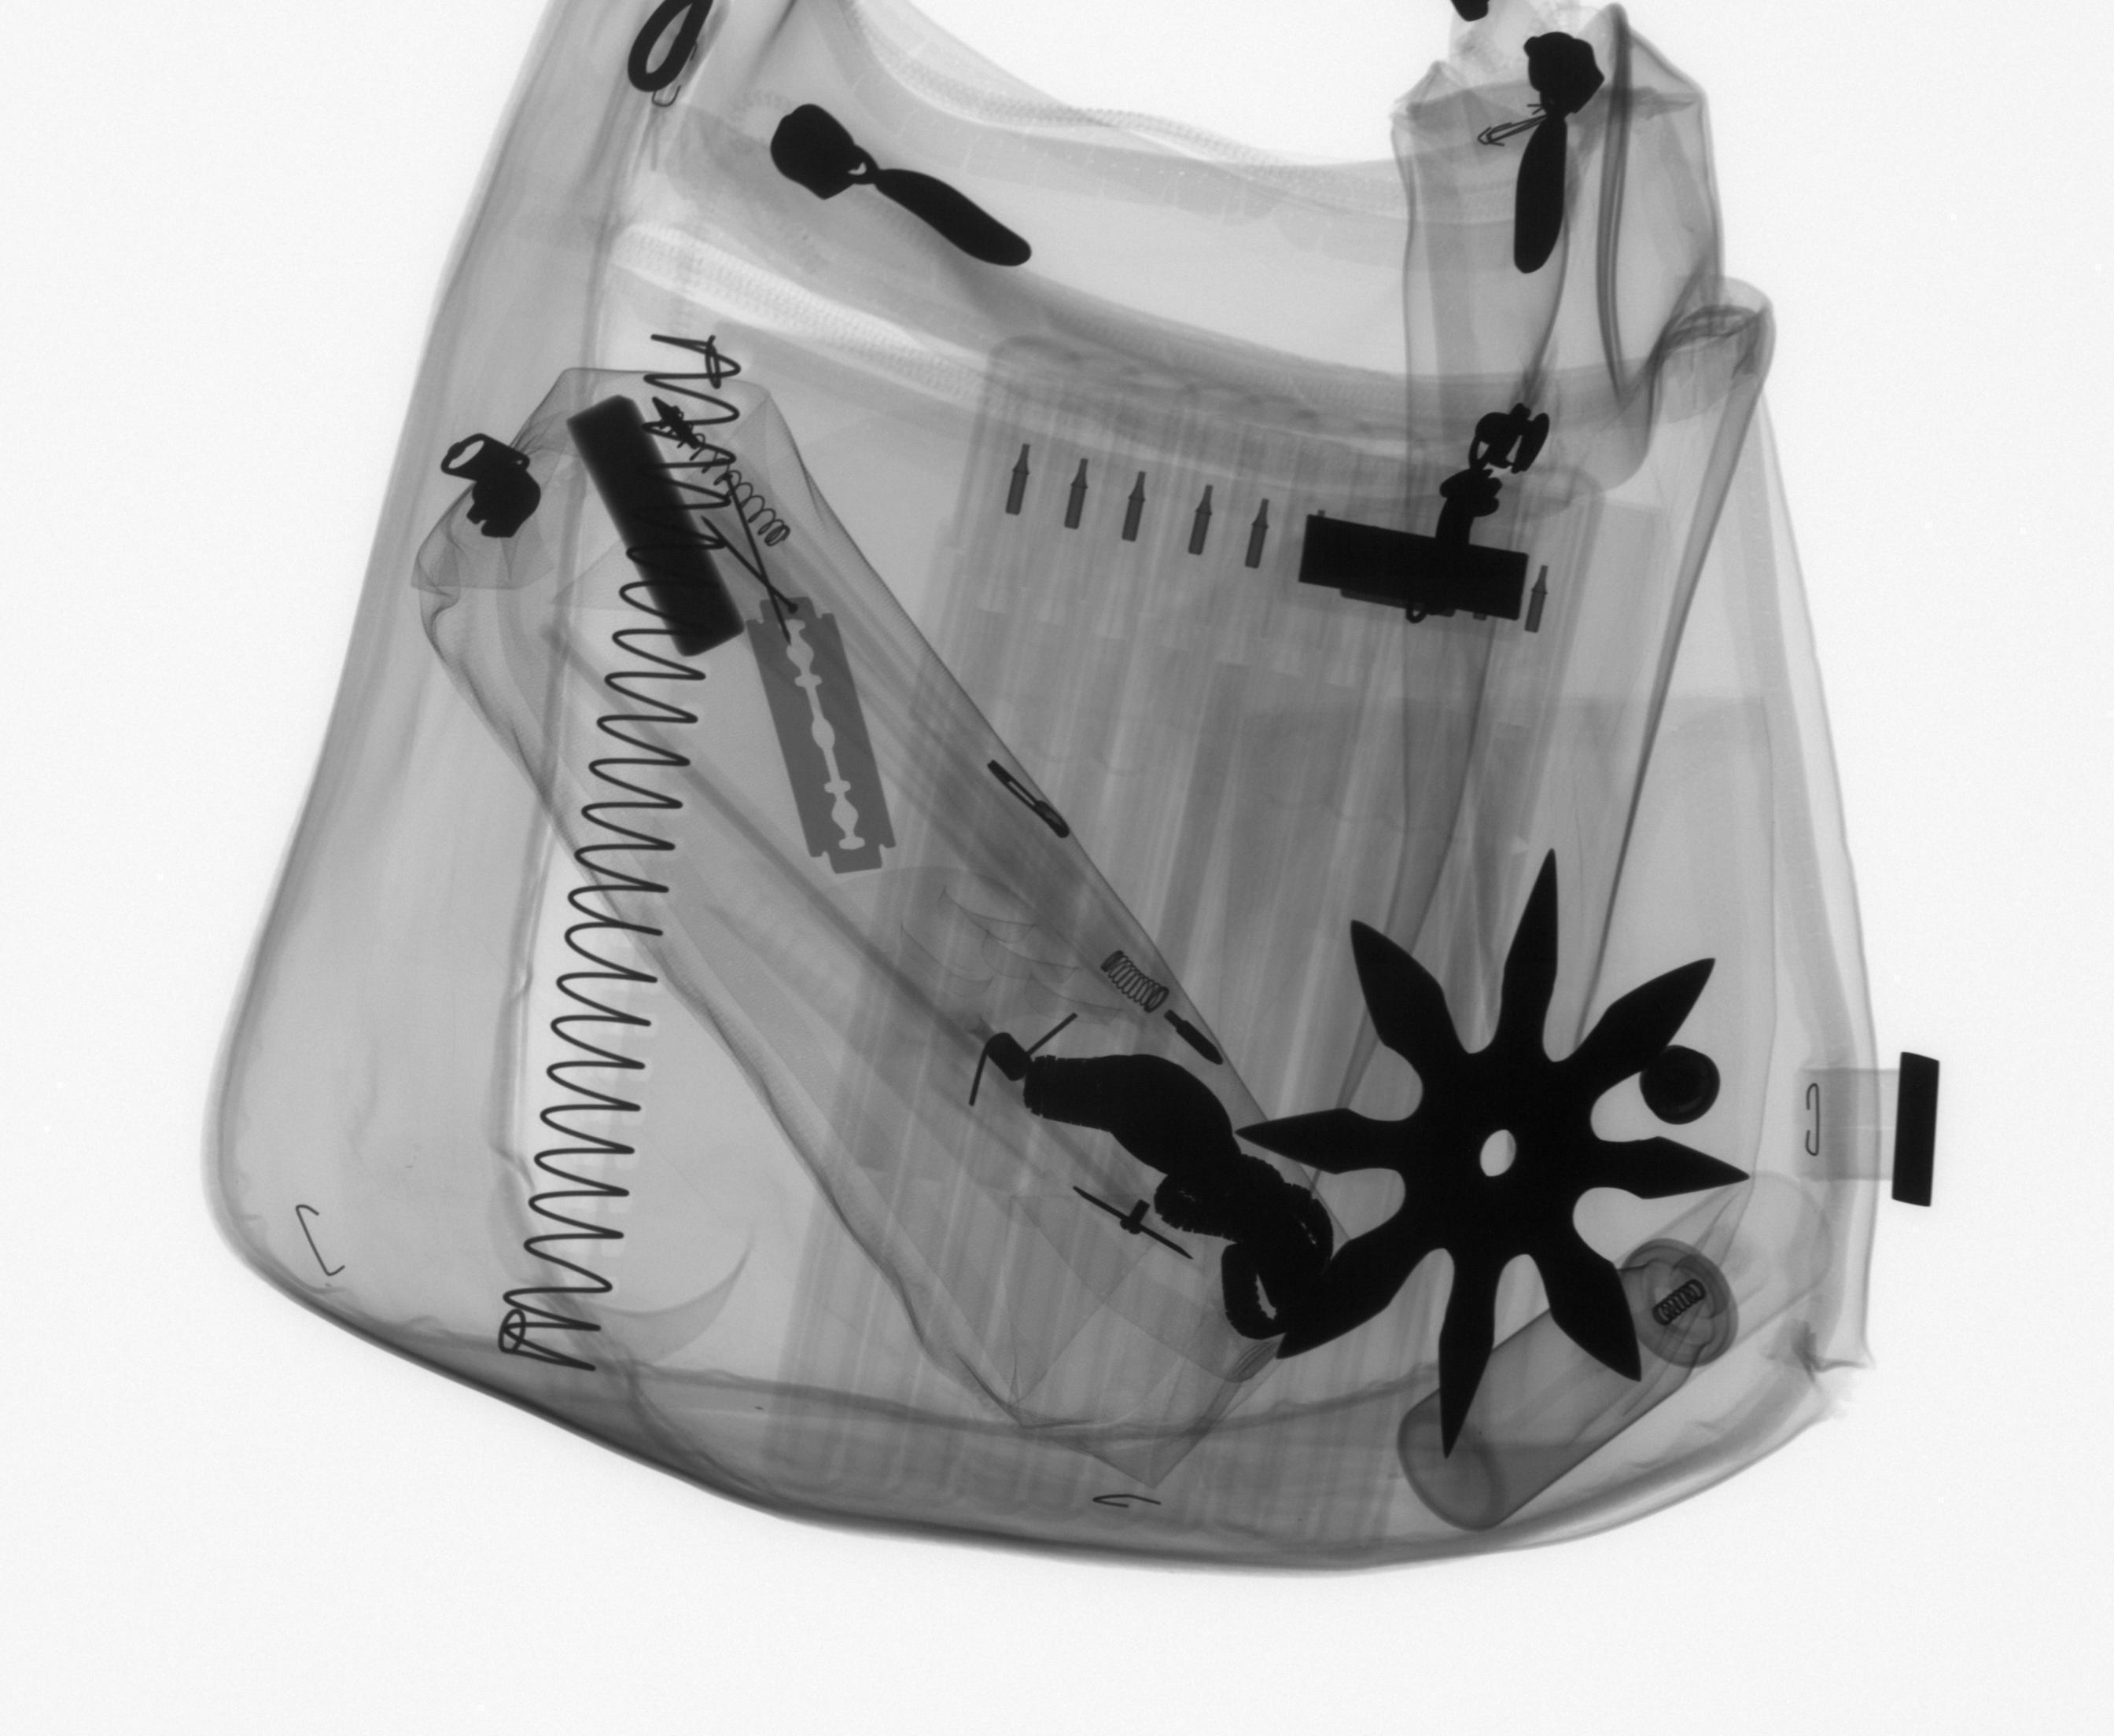RazorBlade: (743, 588, 902, 878)
Shuriken: (1226, 843, 1756, 1467)
